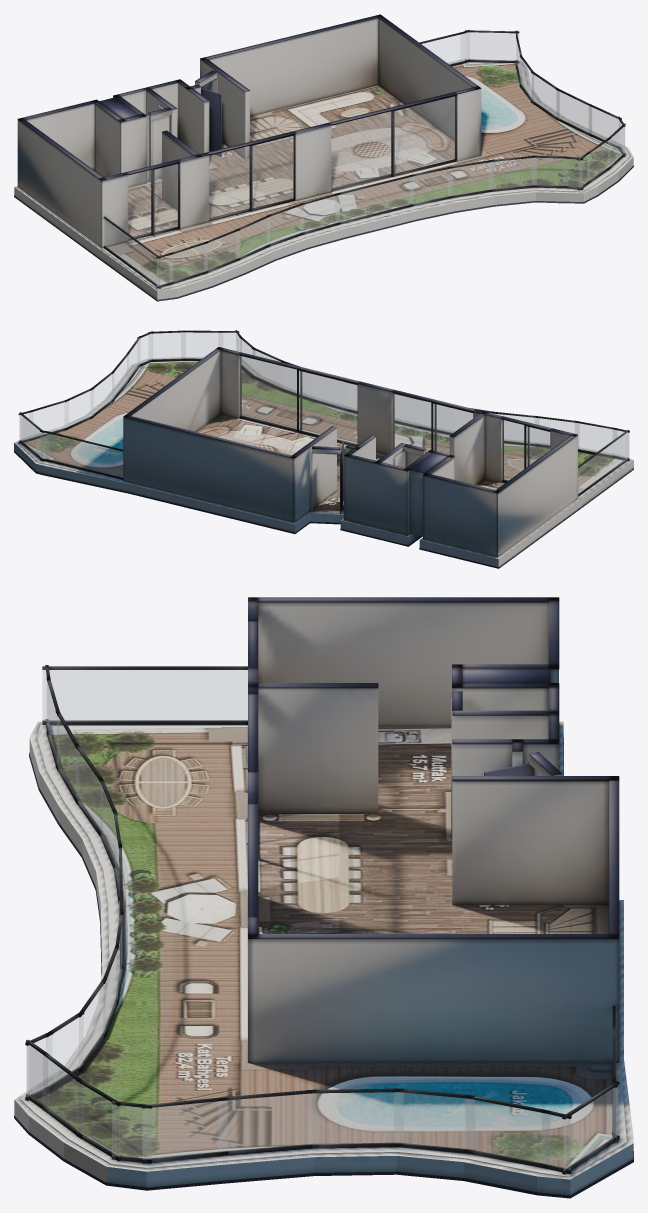
The picture shows the model from 3 angles, top to bottom: view 1: azimuth 30°, elevation 25°; view 2: azimuth 150°, elevation 25°; view 3: azimuth 270°, elevation 25°; orthographic projection. The views are drawn at different scales.
Parts seen in each view (by area): view 1: plan, glass2_m, glass1_m, glass0_m, railg18_m, railg25_m, railg2_m, railg15_m, railg16_m, railg17_m, railg20_m, railg24_m (+12 smaller); view 2: plan, glass2_m, glass1_m, railg0_m, glass0_m, railg25_m, railg10_m, railg11_m, railg24_m, railg4_m, railg17_m, railg5_m (+11 smaller); view 3: plan, railg25_m, railg7_m, railg6_m, railg8_m, railg4_m, railg5_m, railg2_m, railg10_m, railg9_m, railg11_m, railg14_m (+6 smaller).
Boxes of the visible parts, x1,y1,x2,y2 form: plan: [14, 14, 633, 301]; glass2_m: [331, 96, 454, 188]; glass1_m: [209, 136, 293, 218]; glass0_m: [128, 164, 177, 238]; railg18_m: [335, 176, 413, 222]; railg25_m: [104, 219, 159, 285]; railg2_m: [466, 32, 518, 60]; railg15_m: [488, 158, 536, 189]; railg16_m: [448, 162, 492, 196]; railg17_m: [409, 168, 452, 204]; railg20_m: [300, 195, 339, 232]; railg24_m: [169, 243, 207, 282]; plan: [14, 330, 633, 568]; glass2_m: [240, 356, 357, 443]; glass1_m: [393, 393, 472, 453]; railg0_m: [46, 433, 122, 477]; glass0_m: [502, 420, 549, 480]; railg25_m: [578, 433, 627, 493]; railg10_m: [149, 332, 185, 359]; railg11_m: [181, 332, 222, 358]; railg24_m: [575, 423, 616, 454]; railg4_m: [29, 401, 68, 436]; railg17_m: [313, 375, 346, 408]; railg5_m: [65, 390, 93, 427]; plan: [14, 597, 633, 1198]; railg25_m: [42, 670, 247, 720]; railg7_m: [218, 1093, 316, 1151]; railg6_m: [307, 1092, 402, 1144]; railg8_m: [142, 1100, 227, 1159]; railg4_m: [466, 1099, 550, 1164]; railg5_m: [394, 1092, 474, 1149]; railg2_m: [563, 1085, 618, 1170]; railg10_m: [77, 1082, 119, 1157]; railg9_m: [112, 1104, 151, 1159]; railg11_m: [43, 1055, 82, 1134]; railg14_m: [46, 1015, 82, 1083].
Size of the model in its own units: 17.84 by 2.62 by 10.2.
Materials: 2 (1 with a texture image).
